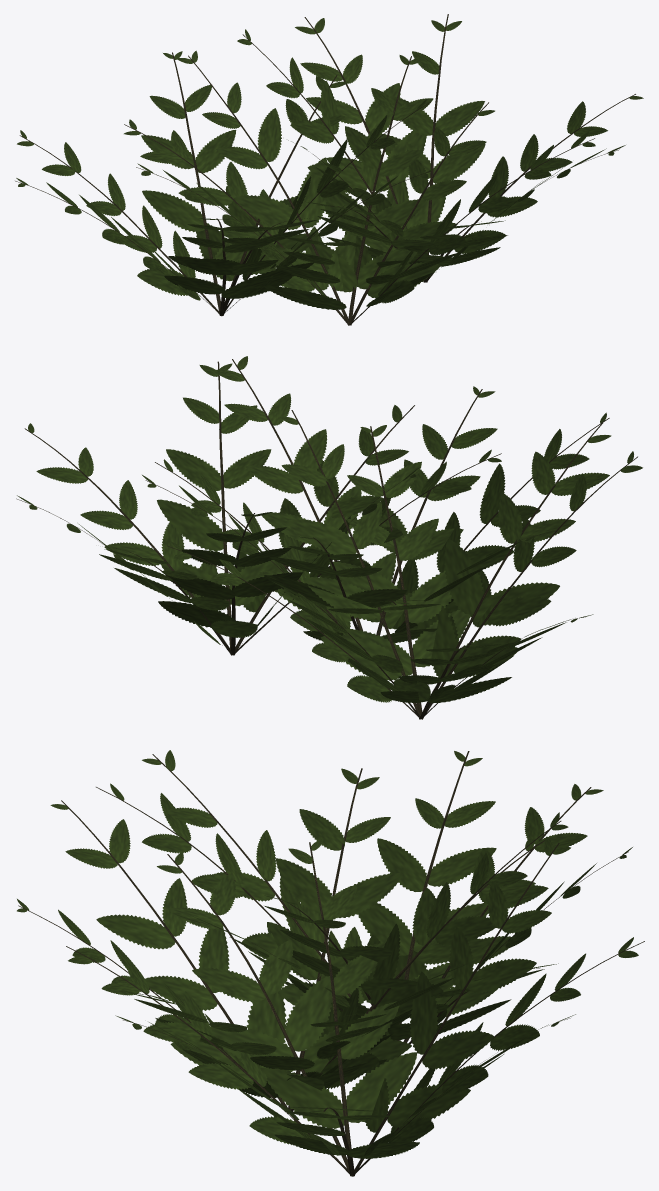
The model's file is rock_fern_v02_LOD1.fbx.
3 renders of one model, top to bottom at view 1: azimuth 30°, elevation 25°; view 2: azimuth 150°, elevation 25°; view 3: azimuth 270°, elevation 25°, orthographic. The views are drawn at different scales.
Parts seen in each view (by area): view 1: rock_fern_v02_LOD1; view 2: rock_fern_v02_LOD1; view 3: rock_fern_v02_LOD1.
Boxes of the visible parts, left/top/right/bottom form: rock_fern_v02_LOD1: left=15, top=14, right=643, bottom=325; rock_fern_v02_LOD1: left=16, top=356, right=642, bottom=719; rock_fern_v02_LOD1: left=17, top=750, right=644, bottom=1176.
Bounding box in the file's own units: 39.69 × 14.24 × 29.93.
Materials: 2 (2 with a texture image).
